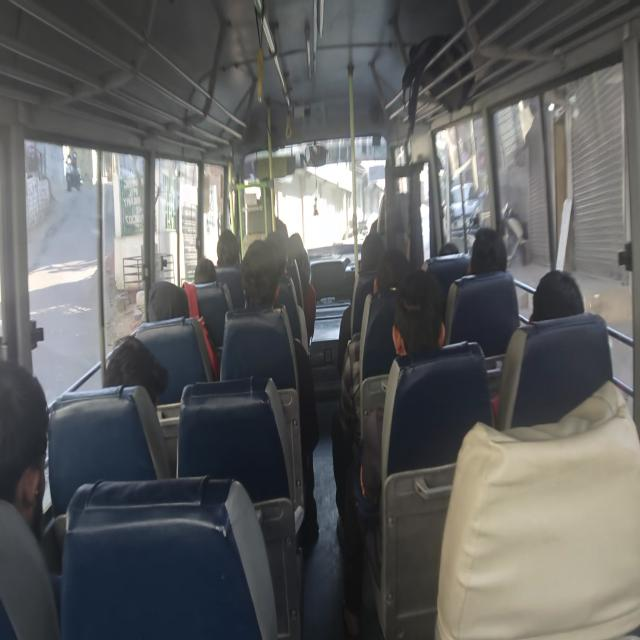person: (0, 358, 62, 549), (386, 266, 448, 368), (106, 331, 173, 409), (142, 265, 203, 328), (529, 270, 586, 332), (243, 242, 281, 331), (468, 228, 513, 292), (209, 226, 244, 270), (252, 166, 284, 214), (187, 255, 229, 290), (378, 242, 417, 278), (264, 218, 290, 272), (286, 221, 309, 280), (377, 172, 408, 210), (358, 230, 387, 265), (434, 240, 468, 258)
